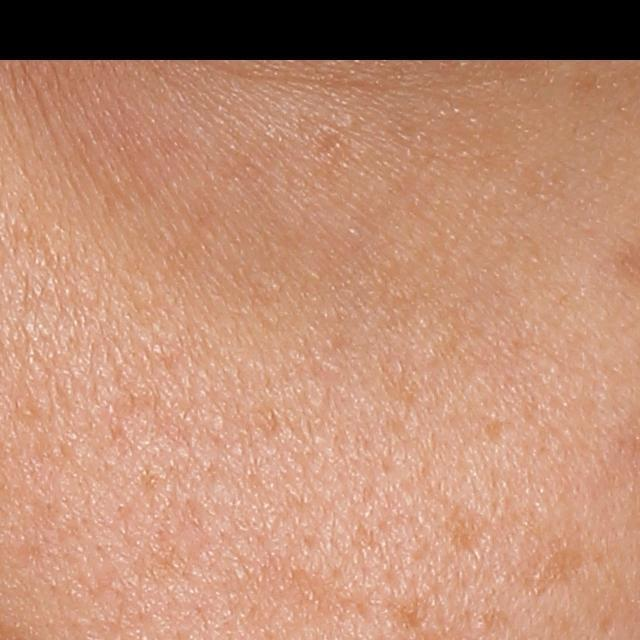melasma: (515, 530, 591, 589), (445, 506, 488, 554)
